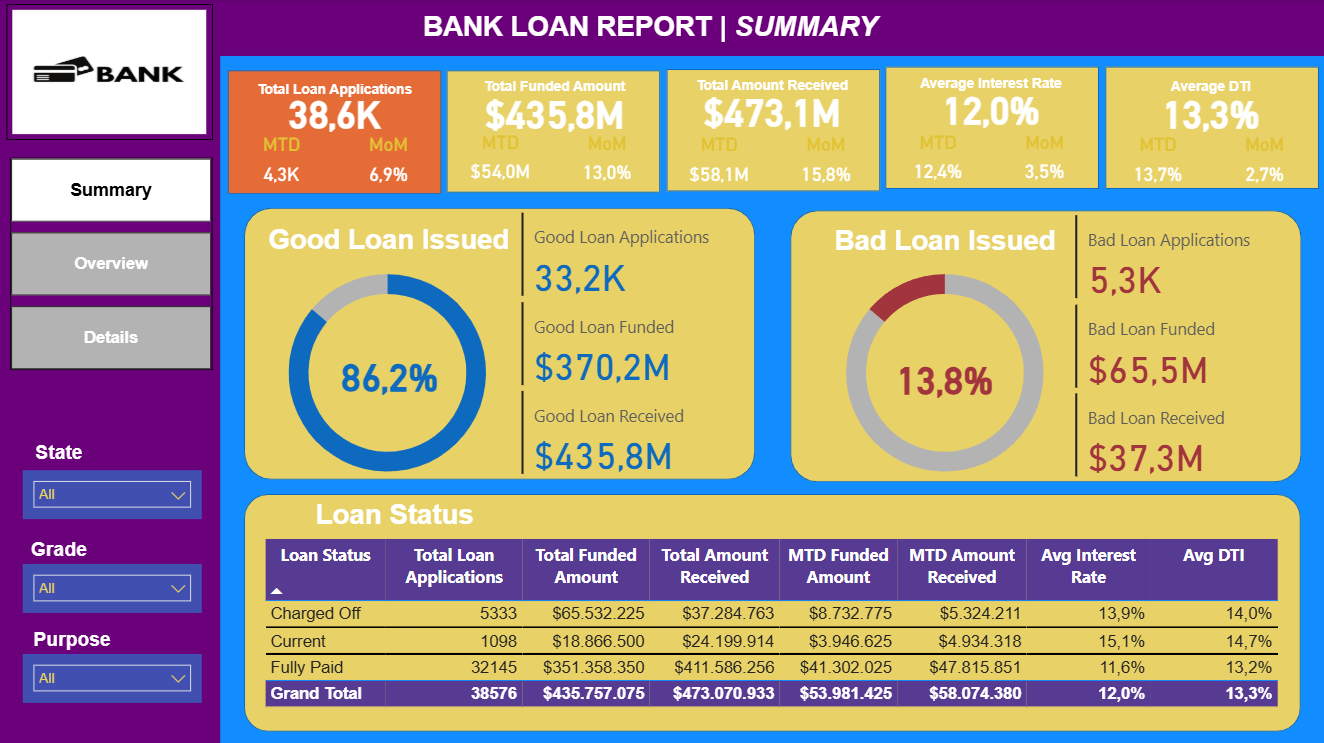

What the dashboard file says about the page in this screenshot:
{"tool":"powerbi","page":{"name":"Summary","canvas":[1280,720],"ordinal":0},"visuals":[{"type":"shape","box":[0,27.7,213.5,692.5],"z":0},{"type":"shape","box":[220.7,68.6,206.3,119.4],"z":0,"group":"g2"},{"type":"group","id":"g1","title":"Group 2","box":[431.7,69.3,206.3,118.3],"z":0,"group":"g6"},{"type":"shape","box":[763.2,204,493.4,262.6],"z":1000},{"type":"shape","box":[236.6,201.7,493.4,262.6],"z":2000},{"type":"shape","box":[0,0,1280,55],"z":3000},{"type":"textbox","box":[404.2,7.2,470.5,48.3],"z":4000},{"type":"card","fields":{"Values":["bank_loan_data.Total Loan Applications"]},"box":[220.7,77.3,206.3,62],"z":4000,"group":"g2"},{"type":"card","title":"MoM","fields":{"Values":["bank_loan_data.MoM Funded"]},"box":[535.6,129.9,102.4,57.7],"z":4000,"group":"g6"},{"type":"shape","box":[1067.2,65.3,206.3,118.2],"z":5000},{"type":"textbox","box":[220.7,72.2,206.3,30.2],"z":5000,"group":"g2"},{"type":"group","id":"g2","title":"Group 1","box":[220.7,68.6,206.3,119.4],"z":6000},{"type":"card","title":"MTD","fields":{"Values":["bank_loan_data.MTD Loan Applications"]},"box":[220.7,130.1,103.8,57.9],"z":6000,"group":"g2"},{"type":"card","title":"MoM","fields":{"Values":["bank_loan_data.MoM"]},"box":[324.5,130.1,102.5,57.9],"z":7000,"group":"g2"},{"type":"textbox","box":[245.3,211.8,262.6,47.6],"z":7000},{"type":"group","id":"g3","title":"Group 3","box":[642.7,67.2,207.2,120],"z":8000},{"type":"shape","box":[431.7,69.3,206.3,118.2],"z":8000,"group":"g1"},{"type":"group","id":"g4","title":"Group 4","box":[854.5,65.7,207.2,120],"z":9000},{"type":"card","fields":{"Values":["bank_loan_data.Total Funded AMount"]},"box":[432.3,78,206.3,62],"z":9000,"group":"g1"},{"type":"group","id":"g5","title":"Group 5","box":[1066.3,69.5,206.3,118.3],"z":10000},{"type":"textbox","box":[432.3,70.8,206.3,30.3],"z":10000,"group":"g1"},{"type":"group","id":"g6","title":"Group 6","box":[431.7,69.3,206.3,118.3],"z":11000},{"type":"card","title":"MTD","fields":{"Values":["bank_loan_data.MTD Funded Amount"]},"box":[431.7,128.4,103.8,57.9],"z":11000,"group":"g1"},{"type":"donutChart","fields":{"Category":["bank_loan_data.Good vs Bad Loans"],"Y":["bank_loan_data.Total Loan Applications"]},"box":[251,233.7,248.2,253.9],"z":12000},{"type":"shape","box":[643.6,67.2,206.3,118.2],"z":13000,"group":"g3"},{"type":"card","fields":{"Values":["bank_loan_data.Good Loan %"]},"box":[298.7,331.5,155.8,62],"z":13000},{"type":"card","fields":{"Values":["bank_loan_data.Total Amount Received"]},"box":[642.7,76.1,206.3,62],"z":14000,"group":"g3"},{"type":"cardVisual","fields":{"Data":["bank_loan_data.Good Loan Applications","bank_loan_data.Good Loan Funded","bank_loan_data.Good Loan Received"]},"box":[499.2,201.7,222.2,262.6],"z":14000},{"type":"textbox","box":[642.7,68.9,206.3,30.3],"z":15000,"group":"g3"},{"type":"textbox","box":[782,214.1,262.6,47.6],"z":15000},{"type":"card","title":"MTD","fields":{"Values":["bank_loan_data.MTD Received"]},"box":[642.7,129.5,103.9,57.7],"z":16000,"group":"g3"},{"type":"donutChart","fields":{"Category":["bank_loan_data.Good vs Bad Loans"],"Y":["bank_loan_data.Total Loan Applications"]},"box":[789.2,233.7,248.2,253.9],"z":16000},{"type":"card","title":"MoM","fields":{"Values":["bank_loan_data.MoM Received"]},"box":[746.6,129.5,102.4,57.7],"z":17000,"group":"g3"},{"type":"shape","box":[236.6,477.6,1020,229.4],"z":17000},{"type":"shape","box":[855.4,65.7,206.3,118.2],"z":18000,"group":"g4"},{"type":"card","fields":{"Values":["bank_loan_data.Bad Loan %"]},"box":[835.4,333.9,155.8,62],"z":18000},{"type":"card","fields":{"Values":["bank_loan_data.AVG IntRate"]},"box":[854.5,74.6,206.3,62],"z":19000,"group":"g4"},{"type":"cardVisual","fields":{"Data":["bank_loan_data.Bad Loan Applications","bank_loan_data.Bad Loan Funded","bank_loan_data.Bad Loan Received"]},"box":[1034.5,204,222.2,262.6],"z":19000},{"type":"textbox","box":[854.5,67.4,206.3,30.3],"z":20000,"group":"g4"},{"type":"tableEx","fields":{"Values":["bank_loan_data.loan_status","bank_loan_data.Total Loan Applications","bank_loan_data.Total Funded AMount","bank_loan_data.Total Amount Received","bank_loan_data.MTD Funded Amount","bank_loan_data.MTD Received","bank_loan_data.AVG IntRate","bank_loan_data.AVG DTI"]},"box":[250.9,516.4,994.1,203.9],"z":20000},{"type":"card","title":"MTD","fields":{"Values":["bank_loan_data.MTD AVG"]},"box":[854.5,128,103.9,57.7],"z":21000,"group":"g4"},{"type":"textbox","box":[250.9,477.8,261.8,47.1],"z":21000},{"type":"card","title":"MoM","fields":{"Values":["bank_loan_data.MoM AVG"]},"box":[958.4,128,102.4,57.7],"z":22000,"group":"g4"},{"type":"slicer","fields":{"Values":["bank_loan_data.address_state"]},"box":[22.9,454.8,172.5,47.1],"z":22000},{"type":"textbox","box":[22.9,422.3,70,32.6],"z":23000},{"type":"card","fields":{"Values":["bank_loan_data.AVG DTI"]},"box":[1066.3,76.7,206.3,62],"z":24000,"group":"g5"},{"type":"slicer","fields":{"Values":["bank_loan_data.grade"]},"box":[22.9,545.3,172.5,47.1],"z":24000},{"type":"textbox","box":[1066.3,69.5,206.3,30.3],"z":25000,"group":"g5"},{"type":"textbox","box":[22.9,516.4,70,32.6],"z":25000},{"type":"card","title":"MTD","fields":{"Values":["bank_loan_data.MTD ADTI"]},"box":[1066.3,130.1,103.9,57.7],"z":26000,"group":"g5"},{"type":"slicer","fields":{"Values":["bank_loan_data.purpose"]},"box":[22.9,632.2,172.5,47.1],"z":26000},{"type":"card","title":"MoM","fields":{"Values":["bank_loan_data.MoM ADTI"]},"box":[1170.2,130.1,102.4,57.7],"z":27000,"group":"g5"},{"type":"textbox","box":[22.9,603.2,95.3,32.6],"z":27000},{"type":"image","box":[7.2,4.8,199.1,131.5],"z":29000},{"type":"pageNavigator","box":[10.9,153.2,195.4,205.1],"z":29001}]}

Visuals, with their boxes in screenshot pixels (x1, y1, x2, y2), scaled from the page's 1280x720 canvas onto the 1324x743 screenshot:
shape: l=0, t=29, r=221, b=742
shape: l=228, t=71, r=442, b=194
"Group 2" group: l=447, t=72, r=660, b=194
shape: l=789, t=211, r=1300, b=482
shape: l=245, t=208, r=755, b=479
shape: l=0, t=0, r=1323, b=57
textbox: l=418, t=7, r=905, b=57
card - bank_loan_data.Total Loan Applications: l=228, t=80, r=442, b=144
"MoM" card: l=554, t=134, r=660, b=194
shape: l=1104, t=67, r=1317, b=189
textbox: l=228, t=75, r=442, b=106
"Group 1" group: l=228, t=71, r=442, b=194
"MTD" card: l=228, t=134, r=336, b=194
"MoM" card: l=336, t=134, r=442, b=194
textbox: l=254, t=219, r=525, b=268
"Group 3" group: l=665, t=69, r=879, b=193
shape: l=447, t=72, r=660, b=193
"Group 4" group: l=884, t=68, r=1098, b=192
card - bank_loan_data.Total Funded AMount: l=447, t=80, r=661, b=144
"Group 5" group: l=1103, t=72, r=1316, b=194
textbox: l=447, t=73, r=661, b=104
"Group 6" group: l=447, t=72, r=660, b=194
"MTD" card: l=447, t=133, r=554, b=192
donutChart - bank_loan_data.Good vs Bad Loans x bank_loan_data.Total Loan Applications: l=260, t=241, r=516, b=503
shape: l=666, t=69, r=879, b=191
card - bank_loan_data.Good Loan %: l=309, t=342, r=470, b=406
card - bank_loan_data.Total Amount Received: l=665, t=79, r=878, b=143
cardVisual - bank_loan_data.Good Loan Applications x bank_loan_data.Good Loan Funded: l=516, t=208, r=746, b=479
textbox: l=665, t=71, r=878, b=102
textbox: l=809, t=221, r=1081, b=270
"MTD" card: l=665, t=134, r=772, b=193
donutChart - bank_loan_data.Good vs Bad Loans x bank_loan_data.Total Loan Applications: l=816, t=241, r=1073, b=503
"MoM" card: l=772, t=134, r=878, b=193
shape: l=245, t=493, r=1300, b=730
shape: l=885, t=68, r=1098, b=190
card - bank_loan_data.Bad Loan %: l=864, t=345, r=1025, b=409
card - bank_loan_data.AVG IntRate: l=884, t=77, r=1097, b=141
cardVisual - bank_loan_data.Bad Loan Applications x bank_loan_data.Bad Loan Funded: l=1070, t=211, r=1300, b=482
textbox: l=884, t=70, r=1097, b=101
tableEx - bank_loan_data.loan_status x bank_loan_data.Total Loan Applications: l=260, t=533, r=1288, b=742
"MTD" card: l=884, t=132, r=991, b=192
textbox: l=260, t=493, r=530, b=542
"MoM" card: l=991, t=132, r=1097, b=192
slicer - bank_loan_data.address_state: l=24, t=469, r=202, b=518
textbox: l=24, t=436, r=96, b=469
card - bank_loan_data.AVG DTI: l=1103, t=79, r=1316, b=143
slicer - bank_loan_data.grade: l=24, t=563, r=202, b=611
textbox: l=1103, t=72, r=1316, b=103
textbox: l=24, t=533, r=96, b=567
"MTD" card: l=1103, t=134, r=1210, b=194
slicer - bank_loan_data.purpose: l=24, t=652, r=202, b=701
"MoM" card: l=1210, t=134, r=1316, b=194
textbox: l=24, t=622, r=122, b=656
image: l=7, t=5, r=213, b=141
pageNavigator: l=11, t=158, r=213, b=370
